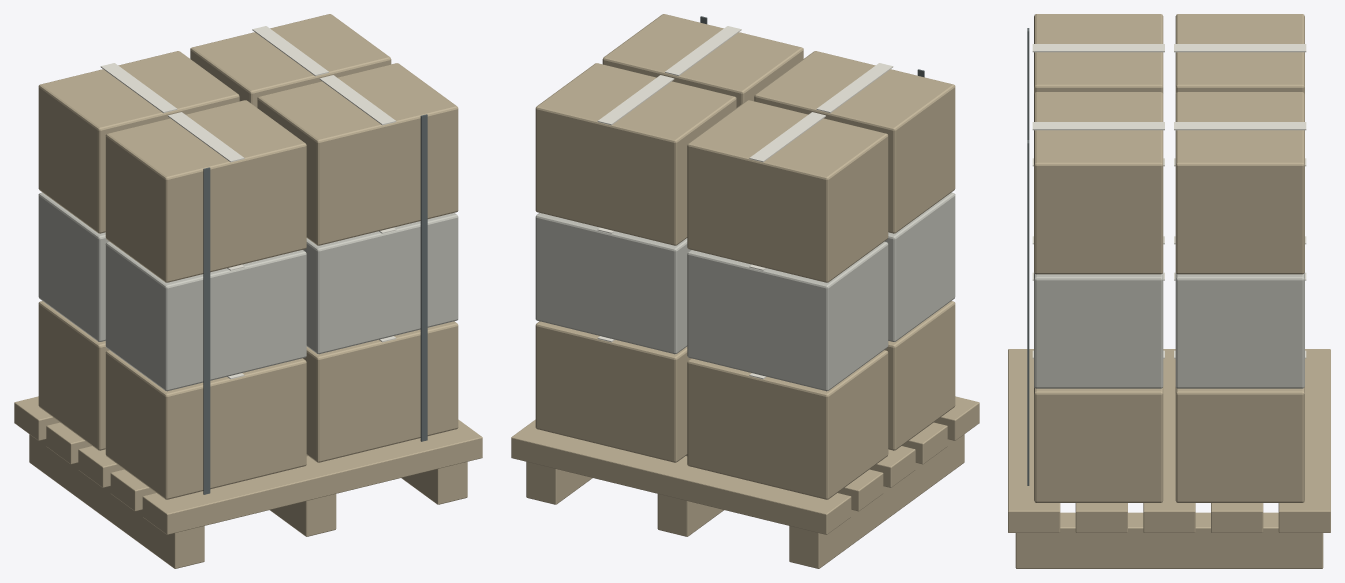
Rendered from F1_CrateLoad_B.fbx.
3 renders of one model, left to right at view 1: azimuth 30°, elevation 25°; view 2: azimuth 150°, elevation 25°; view 3: azimuth 270°, elevation 25°, orthographic. The views are drawn at different scales.
Visible parts, largest first — view 1: F1_CrateLoad_B_LOD0; view 2: F1_CrateLoad_B_LOD0; view 3: F1_CrateLoad_B_LOD0.
Boxes of the visible parts, x1=… form: F1_CrateLoad_B_LOD0: x1=14, y1=14, x2=482, y2=568; F1_CrateLoad_B_LOD0: x1=511, y1=14, x2=979, y2=568; F1_CrateLoad_B_LOD0: x1=1008, y1=14, x2=1330, y2=568.
Size of what is drawn, in the model's own units: 125 by 147 by 105.
